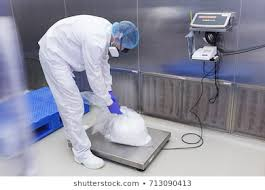Industrial Scale: (69, 9, 234, 173)
